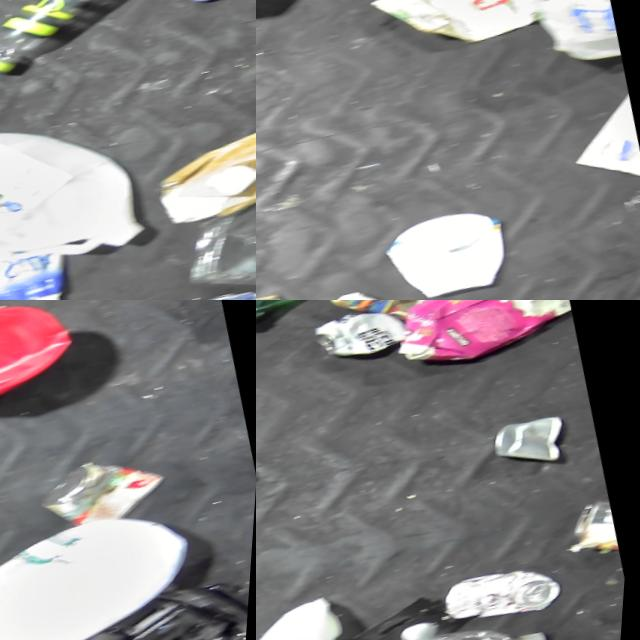can: (440, 544, 573, 627), (304, 300, 413, 367), (486, 399, 578, 470), (560, 484, 626, 559)
milk_jug: (0, 481, 213, 640), (0, 90, 151, 300), (380, 190, 523, 300), (256, 578, 375, 640), (535, 0, 625, 64)
non_white_jug: (376, 300, 580, 377), (359, 0, 576, 63), (0, 300, 90, 431)
plastic_bottle: (283, 586, 567, 640), (0, 0, 140, 85), (256, 300, 368, 337)
